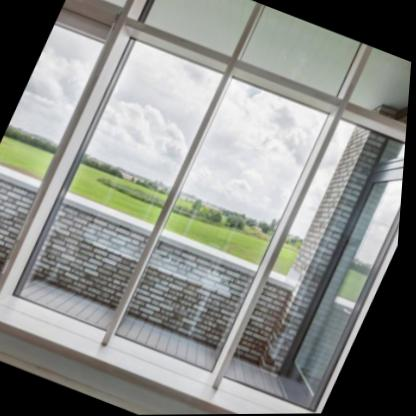Window: (109, 73, 339, 386), (12, 38, 230, 346), (220, 112, 409, 415)
